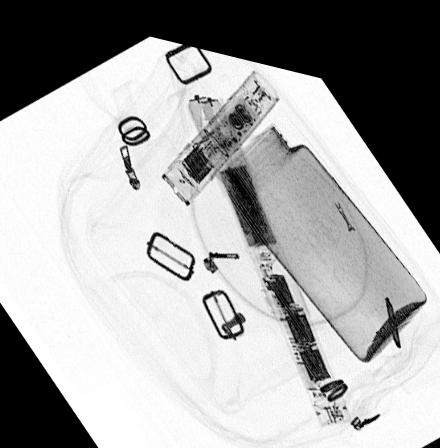Baton: (185, 82, 352, 411), (159, 56, 280, 195)
